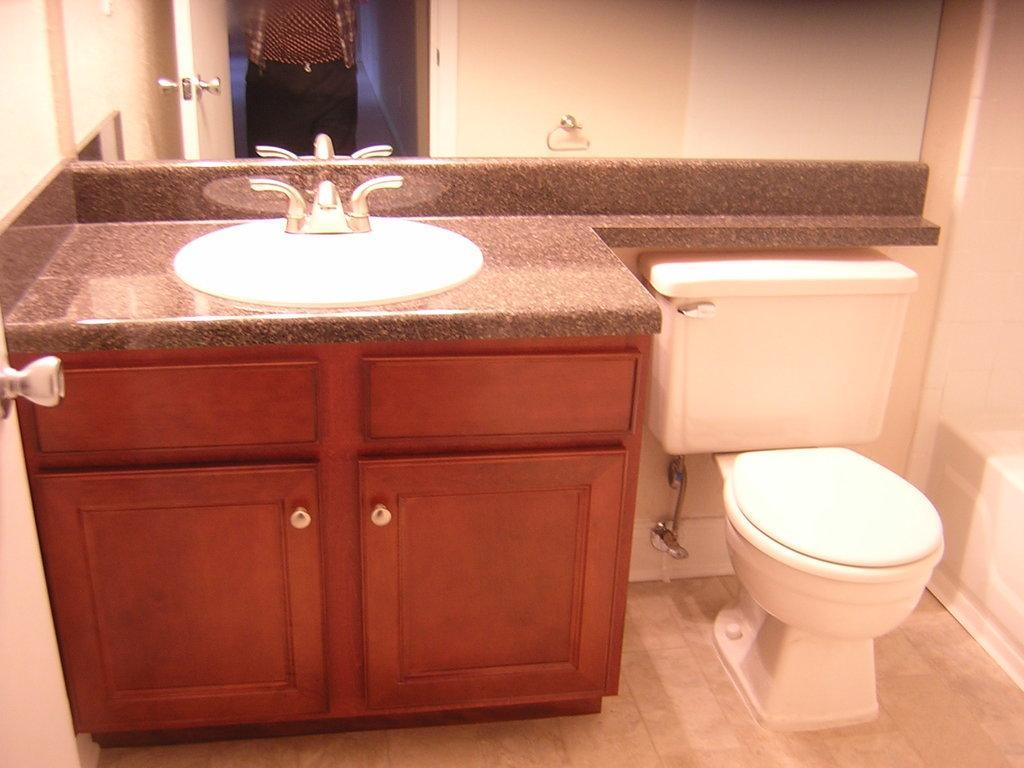door: (174, 0, 245, 163)
handle: (0, 347, 82, 414), (192, 67, 226, 102), (152, 70, 182, 100), (365, 500, 395, 530), (288, 502, 315, 534)
